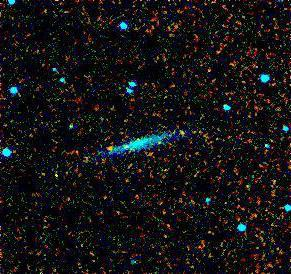star: (94, 138, 124, 168)
